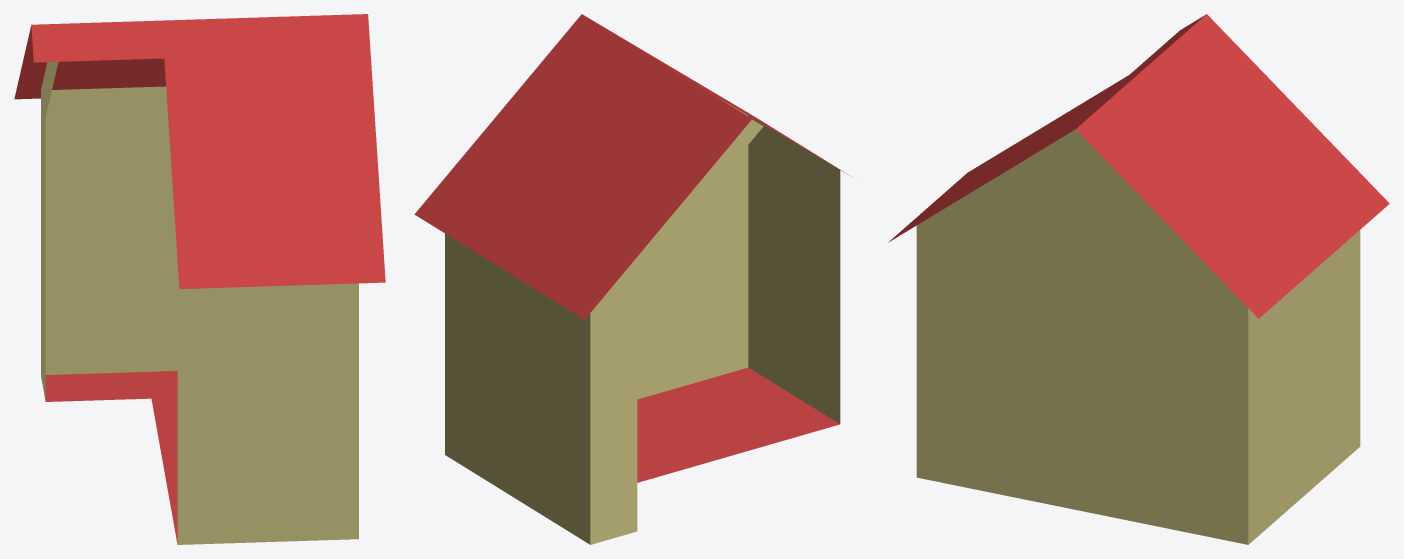
The picture shows the model from 3 angles, left to right: view 1: azimuth 30°, elevation 25°; view 2: azimuth 150°, elevation 25°; view 3: azimuth 270°, elevation 25°; orthographic projection. The views are drawn at different scales.
Size of the model in its own units: 12.63 by 17 by 14.59.
